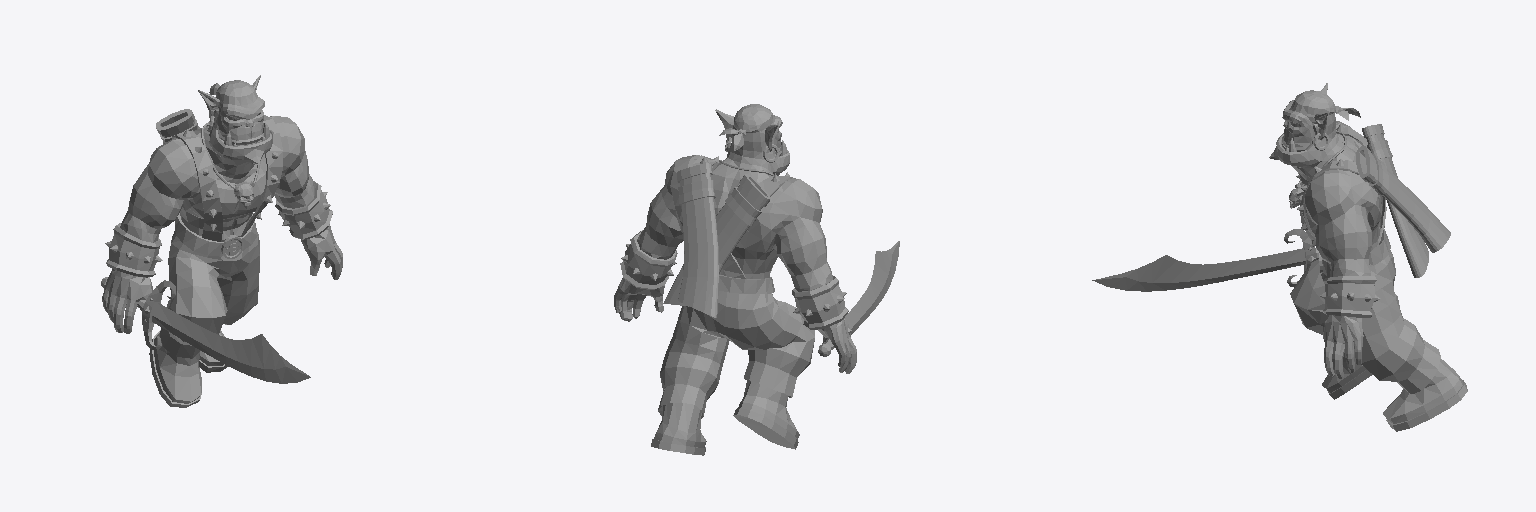
The model's file is sinbad_000002.obj.
3 views of the same model, side by side, from view 1: azimuth 30°, elevation 25°; view 2: azimuth 150°, elevation 25°; view 3: azimuth 270°, elevation 25° (orthographic).
Parts seen in each view (by area): view 1: Sinbad, Sword; view 2: Sinbad, Sword; view 3: Sinbad, Sword.
Boxes of the visible parts, x1=… form: Sinbad: x1=102, y1=75, x2=342, y2=407; Sword: x1=101, y1=277, x2=310, y2=383; Sinbad: x1=614, y1=104, x2=856, y2=455; Sword: x1=818, y1=241, x2=899, y2=356; Sinbad: x1=1269, y1=83, x2=1467, y2=431; Sword: x1=1092, y1=229, x2=1318, y2=291.
Bounding box in the file's own units: 6.58 × 8.77 × 9.26.